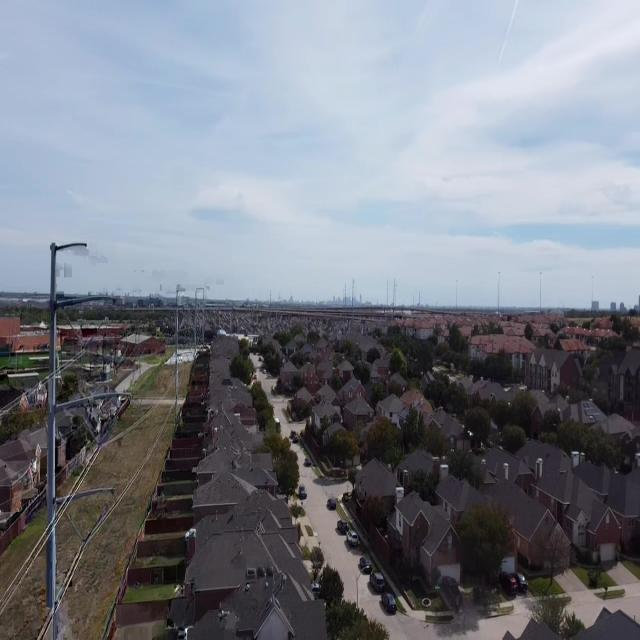正常绝缘子: (96, 409, 124, 452), (81, 313, 107, 355), (63, 505, 87, 546), (83, 505, 107, 545), (79, 407, 101, 449), (64, 312, 86, 350)
